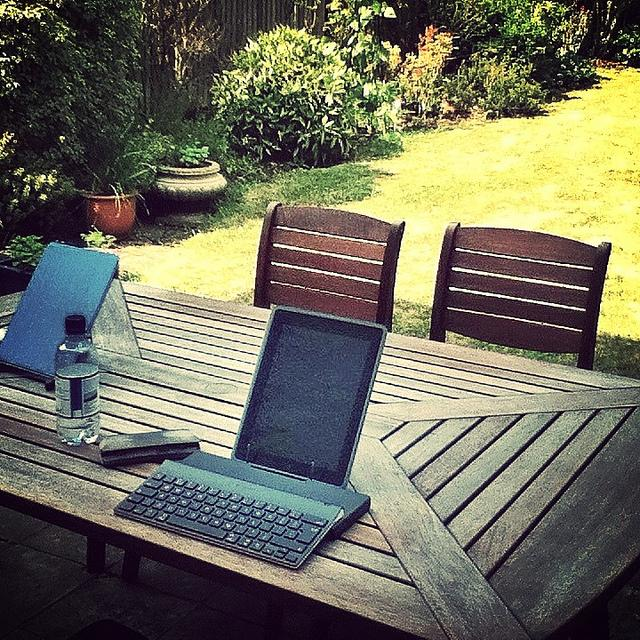chair: (423, 208, 615, 374), (252, 197, 406, 329)
dining table: (0, 274, 640, 629)
